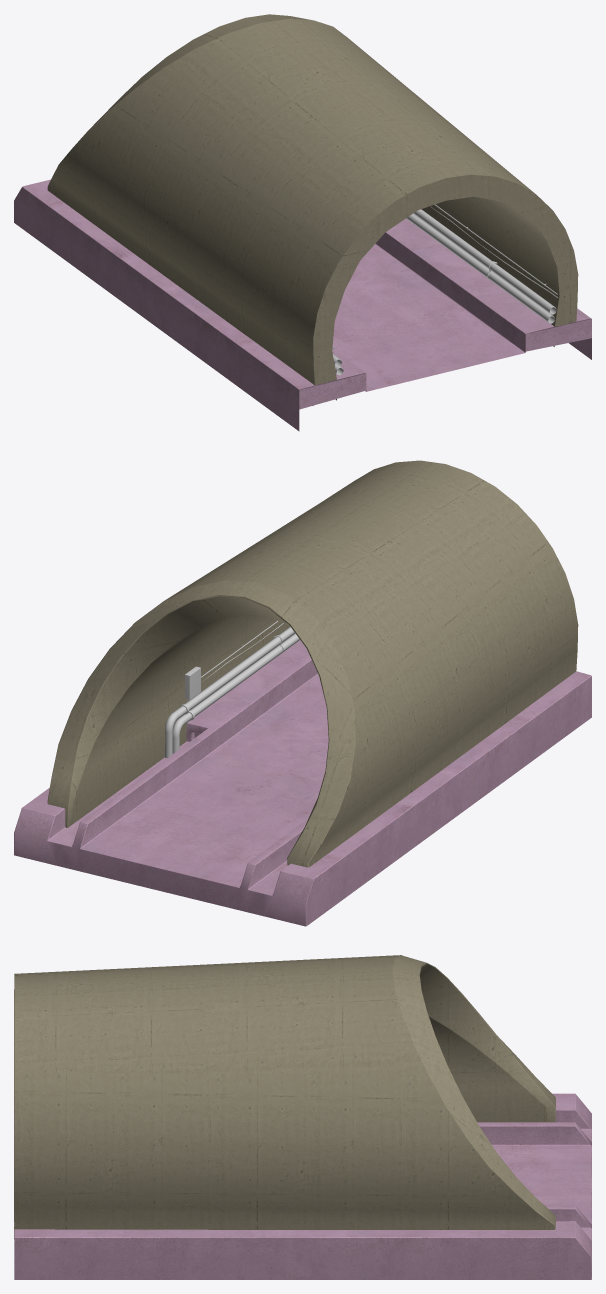
Rendered from 山岭隧道3.fbx.
The picture shows the model from 3 angles, top to bottom: view 1: azimuth 30°, elevation 25°; view 2: azimuth 150°, elevation 25°; view 3: azimuth 270°, elevation 25°; orthographic projection.
Parts seen in each view (by area): view 1: 隧道3_外壳, 隧道3_地面, 隧道3; view 2: 隧道3_外壳, 隧道3_地面, 隧道3; view 3: 隧道3_外壳, 隧道3_地面.
Part boxes in pixels (<box>): 隧道3_外壳: <box>47,14,578,400</box>; 隧道3_地面: <box>14,179,591,431</box>; 隧道3: <box>332,204,557,375</box>; 隧道3_外壳: <box>47,460,578,867</box>; 隧道3_地面: <box>14,640,591,926</box>; 隧道3: <box>164,621,299,758</box>; 隧道3_外壳: <box>14,955,555,1238</box>; 隧道3_地面: <box>14,1093,591,1279</box>.
Bounding box in the file's own units: 26.78 × 20.63 × 45.34.
